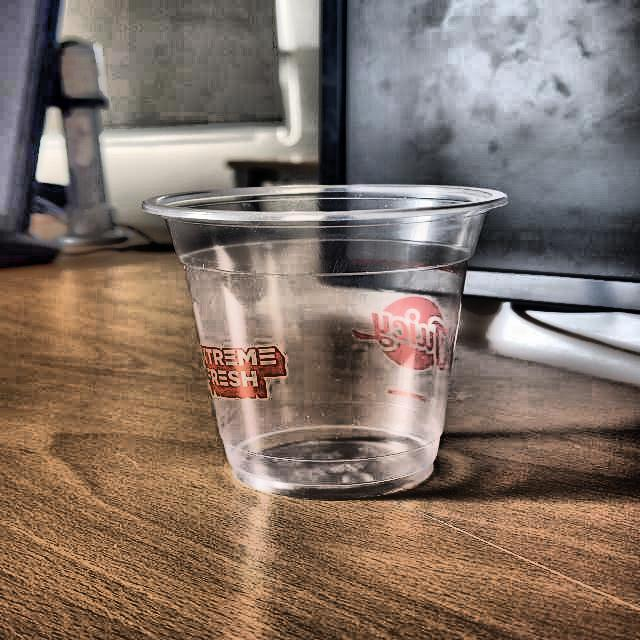plastic cup: (136, 182, 511, 499)
